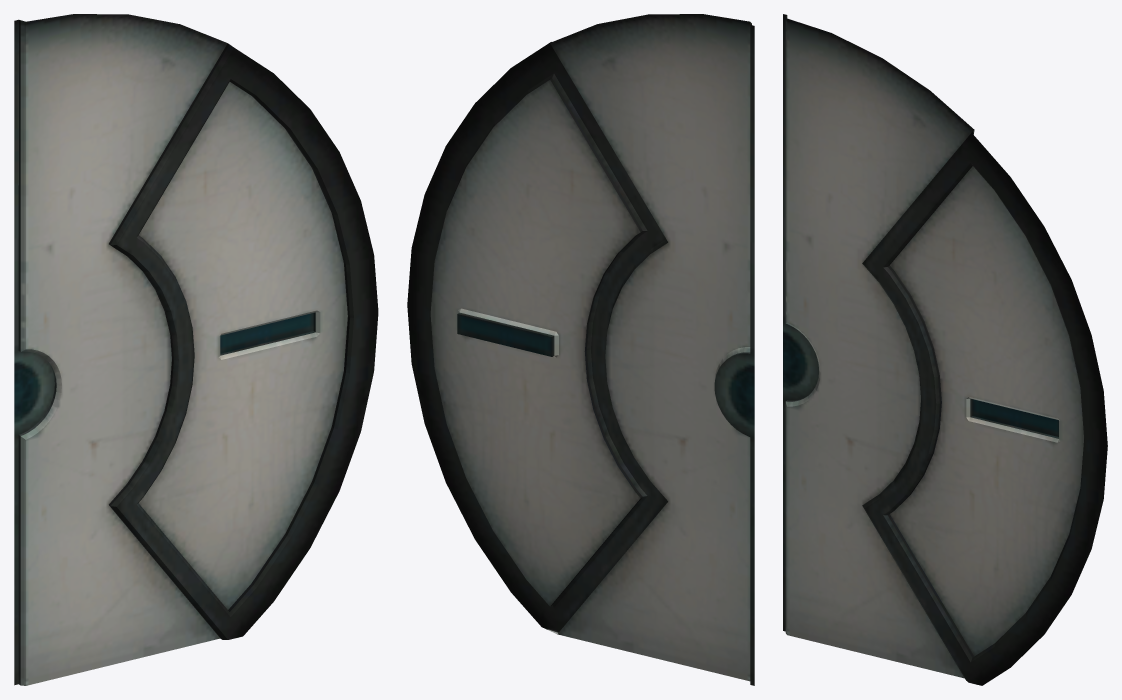
File: DoorPanel.obj
3 renders of one model, left to right at view 1: azimuth 30°, elevation 25°; view 2: azimuth 150°, elevation 25°; view 3: azimuth 330°, elevation 25°, orthographic. The views are drawn at different scales.
Parts seen in each view (by area): view 1: Portal_Door2; view 2: Portal_Door2; view 3: Portal_Door2.
Boxes of the visible parts, <box> form: Portal_Door2: <box>14,14,378,685</box>; Portal_Door2: <box>407,14,754,685</box>; Portal_Door2: <box>783,14,1107,685</box>.
Bounding box in the file's own units: 56.85 × 101 × 1.96.
